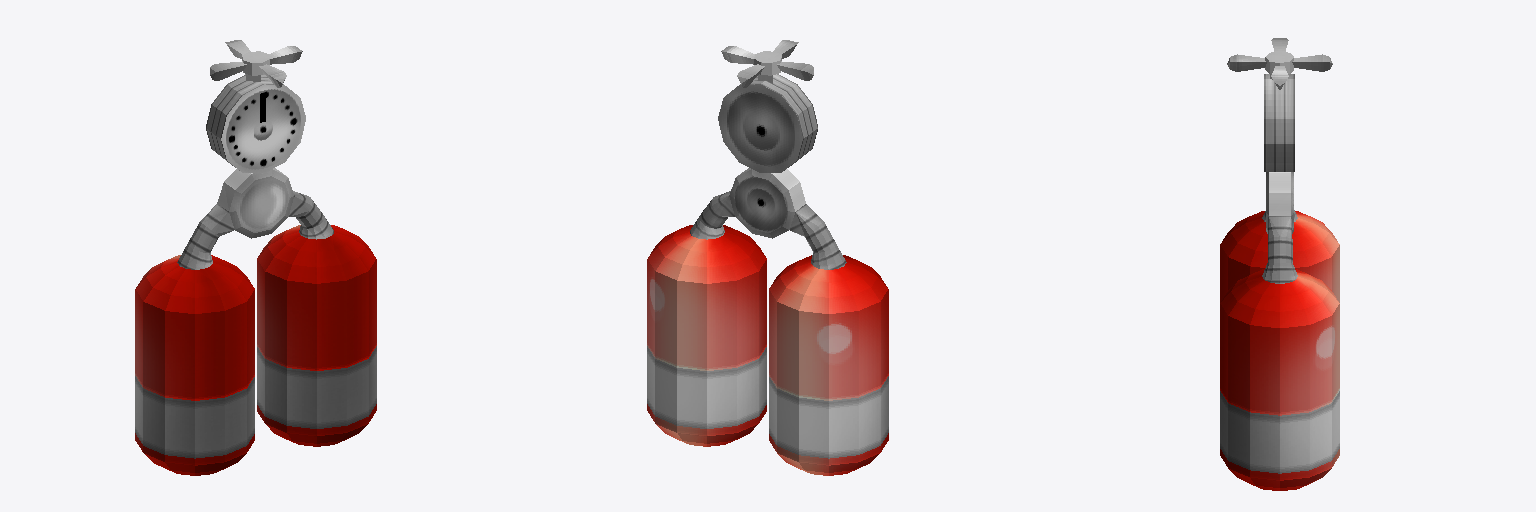
3 views of the same model, side by side, from view 1: azimuth 30°, elevation 25°; view 2: azimuth 150°, elevation 25°; view 3: azimuth 270°, elevation 25° (orthographic).
Visible parts, largest first — view 1: (unnamed)_0; view 2: (unnamed)_0; view 3: (unnamed)_0.
Boxes of the visible parts, <box> form: (unnamed)_0: <box>135,40,376,475</box>; (unnamed)_0: <box>647,40,888,475</box>; (unnamed)_0: <box>1220,38,1339,490</box>.
Bounding box in the file's own units: 2.27 × 3.84 × 1.05.
1 materials, 1 textured.